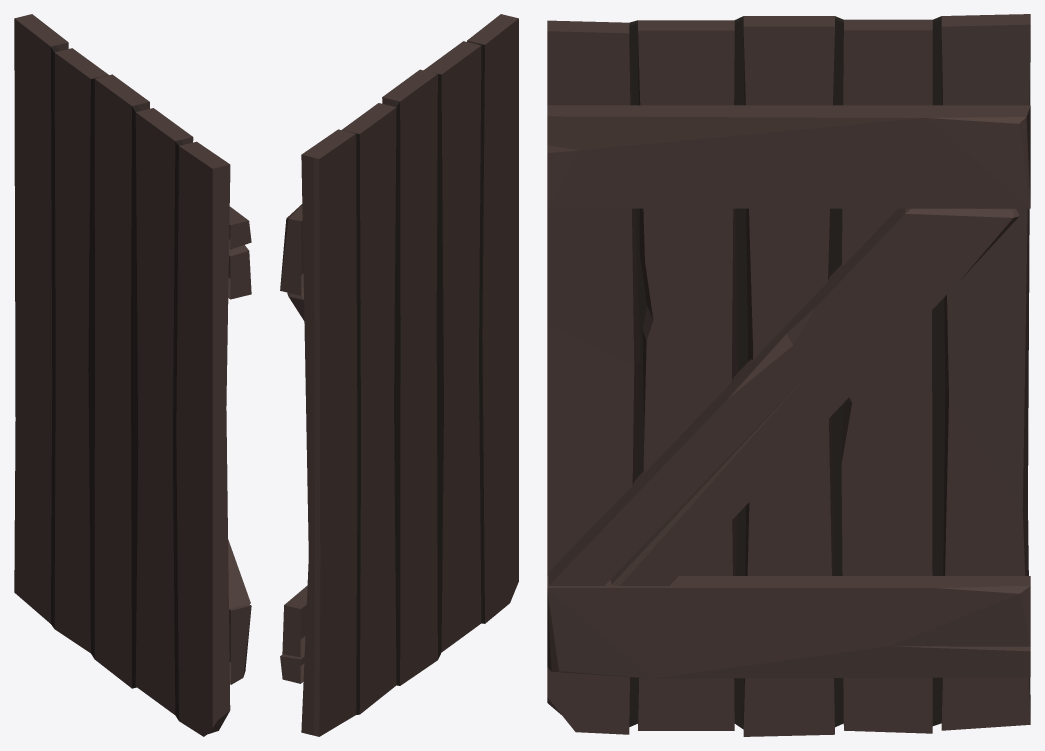
Rendered from SM_Stable_door.fbx.
The picture shows the model from 3 angles, left to right: view 1: azimuth 30°, elevation 25°; view 2: azimuth 150°, elevation 25°; view 3: azimuth 270°, elevation 25°; orthographic projection. The views are drawn at different scales.
Visible parts, largest first — view 1: SM_Stable_door; view 2: SM_Stable_door; view 3: SM_Stable_door.
Part boxes in pixels (box(x1,y1,x2,y2)): SM_Stable_door: box(14, 14, 251, 736); SM_Stable_door: box(280, 14, 518, 736); SM_Stable_door: box(547, 14, 1030, 736).
Bounding box in the file's own units: 13.95 × 199 × 123.
Materials: 1 (1 with a texture image).
